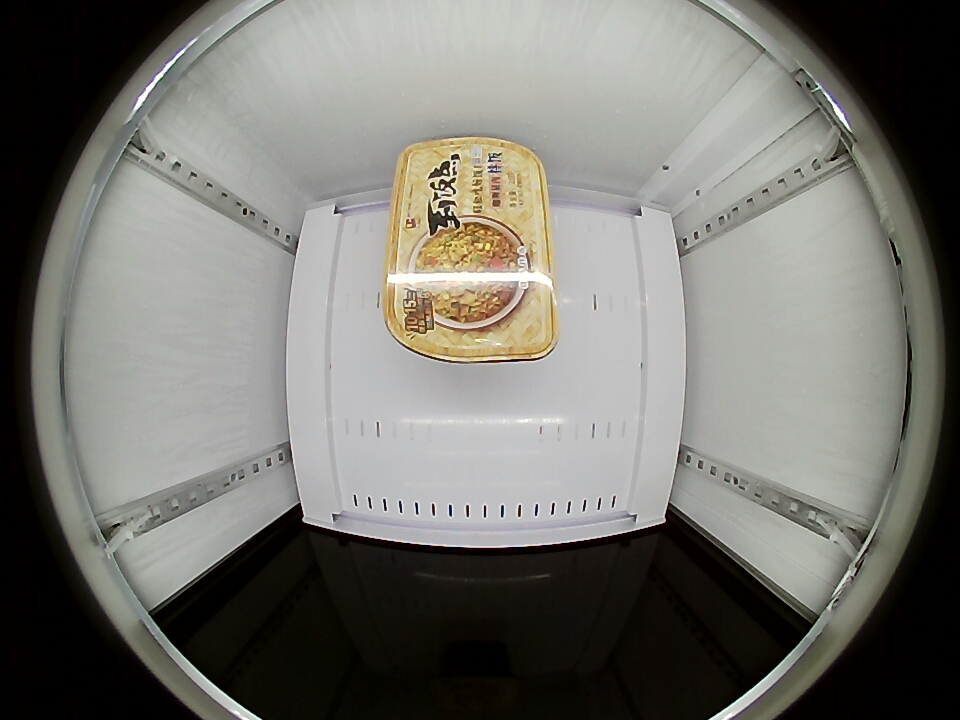daofandian3: (384, 136, 557, 364)
